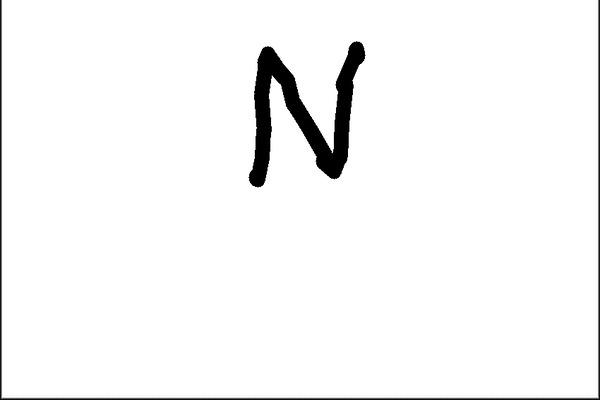N: (242, 39, 371, 190)
